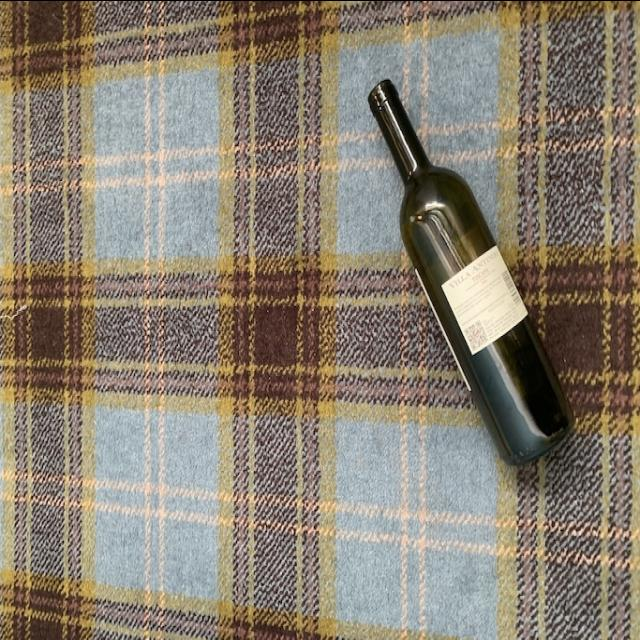Glass Bottle: (364, 69, 576, 476)
